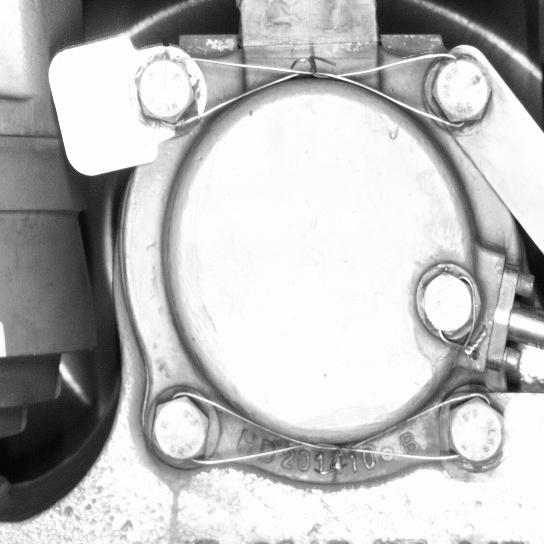IronWire: (125, 49, 499, 132), (138, 386, 510, 468)
Screw: (416, 46, 499, 132), (125, 50, 207, 135), (137, 387, 218, 471), (407, 258, 482, 345), (439, 389, 509, 469)
